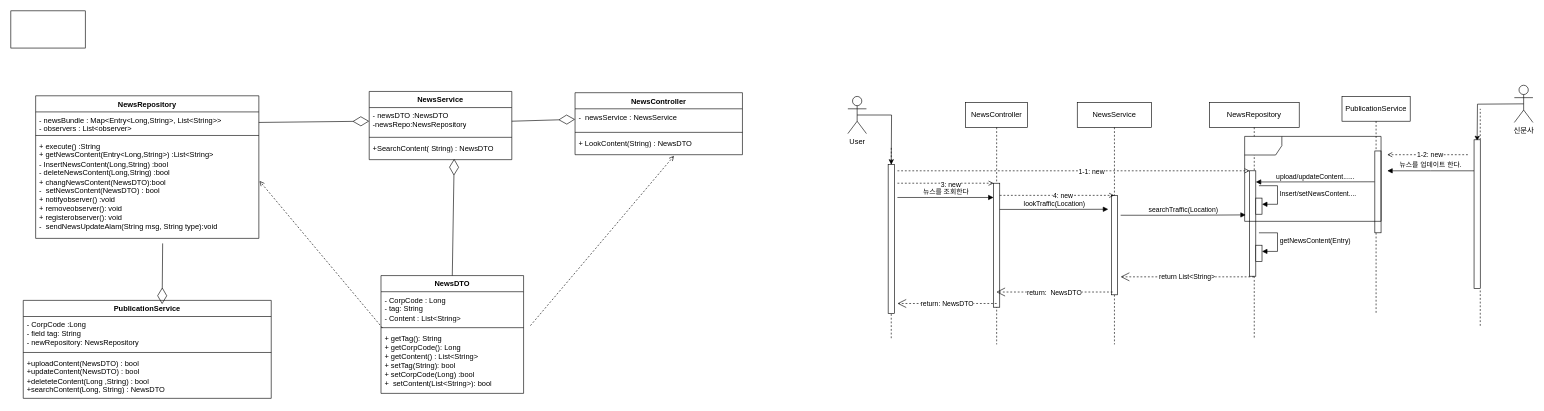
Some shapes in this 1544 by 411 pixel diagram are drawn without their labels. The centre of each missing label's shape, as x and y in pixels:
loop: [1312,178]
뉴스: [47,29]
